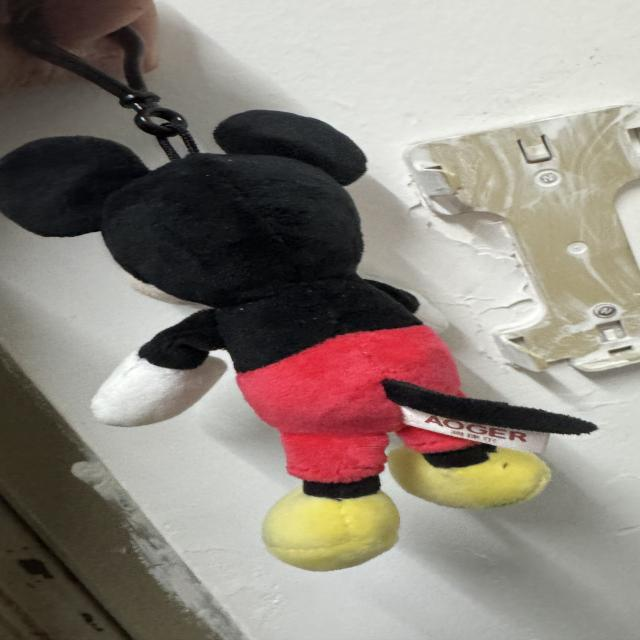mickey: (0, 111, 595, 570)
